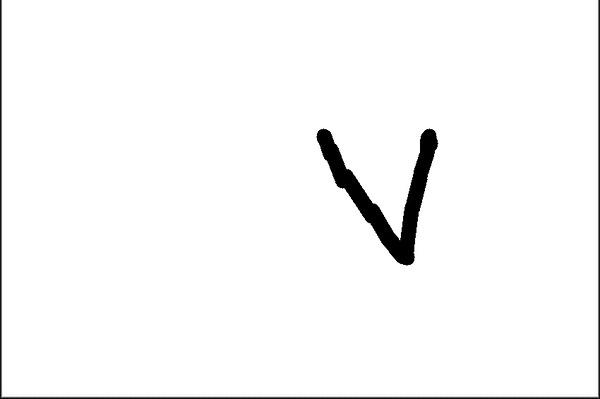V: (305, 111, 450, 271)
